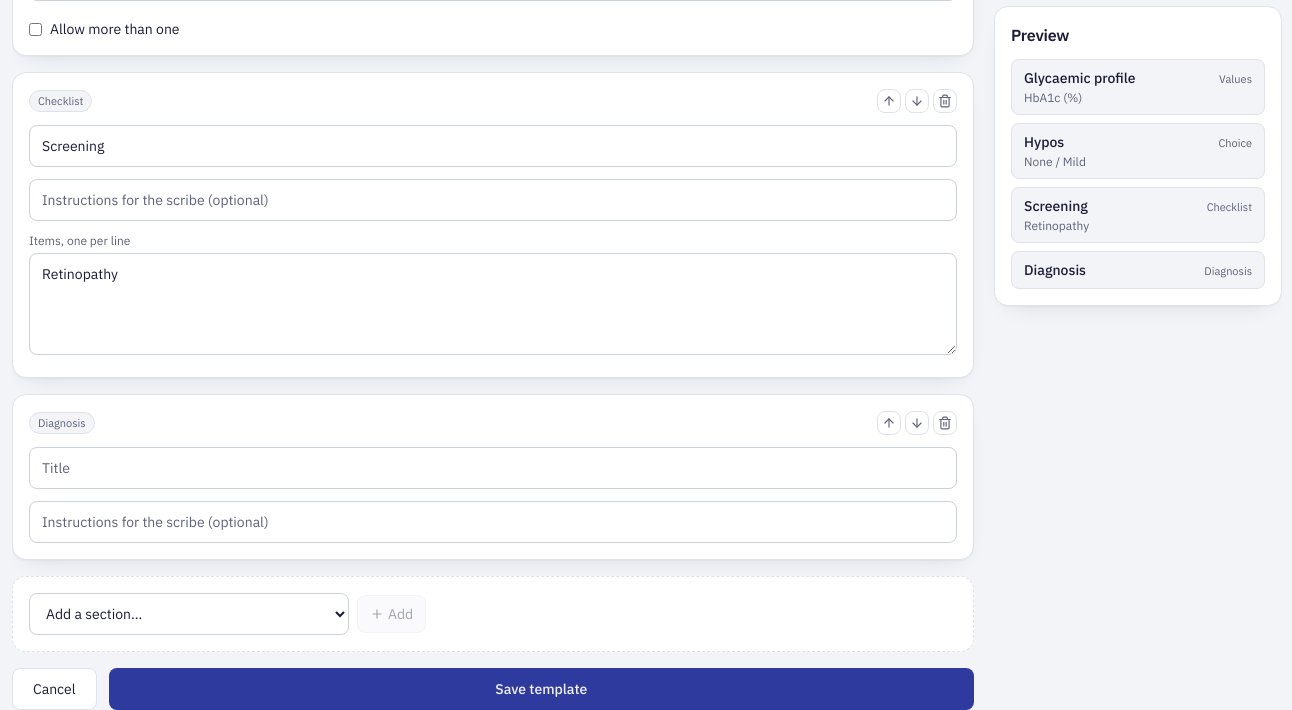
Test: template's own sections › editor adds a section and previews it
(page scrolled)
Step 1. Select "Score" in the dropdown showing "Add a section…" → {"x": 189, "y": 614}, box 29,593 -> 349,635
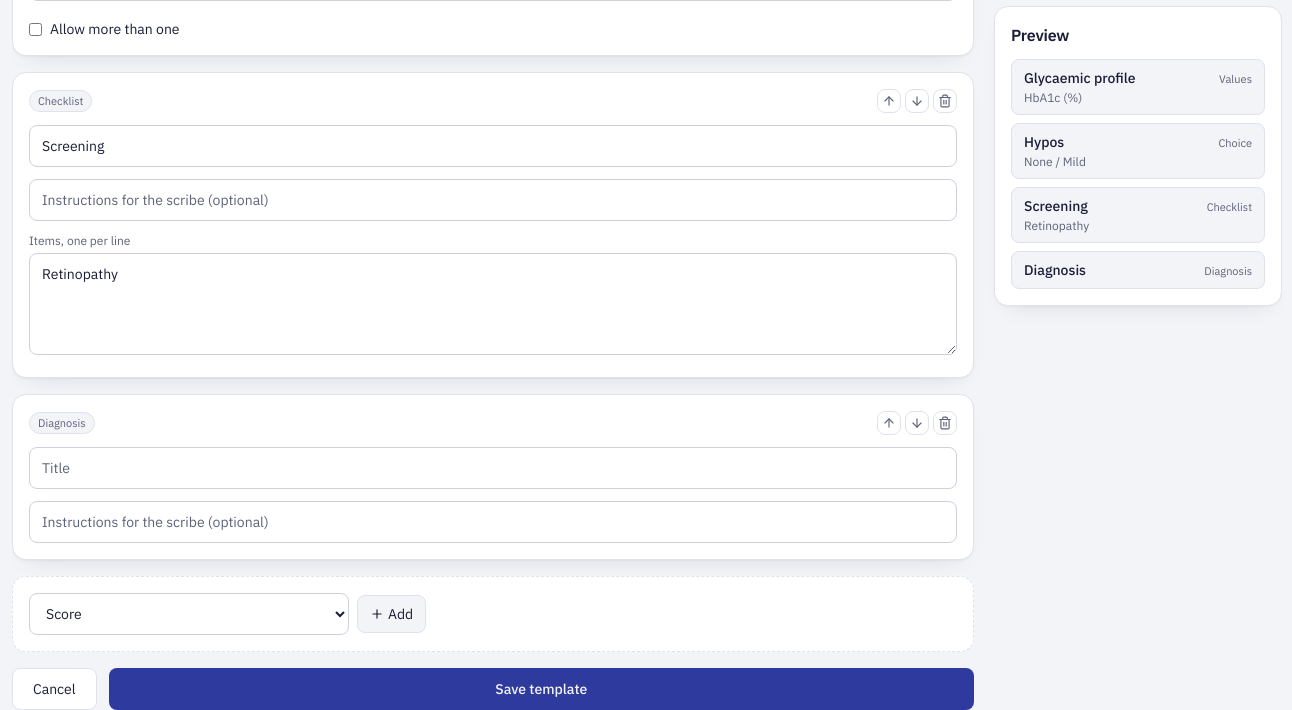
Step 2. Click the button "Add" → {"x": 392, "y": 614}, box 357,595 -> 426,633
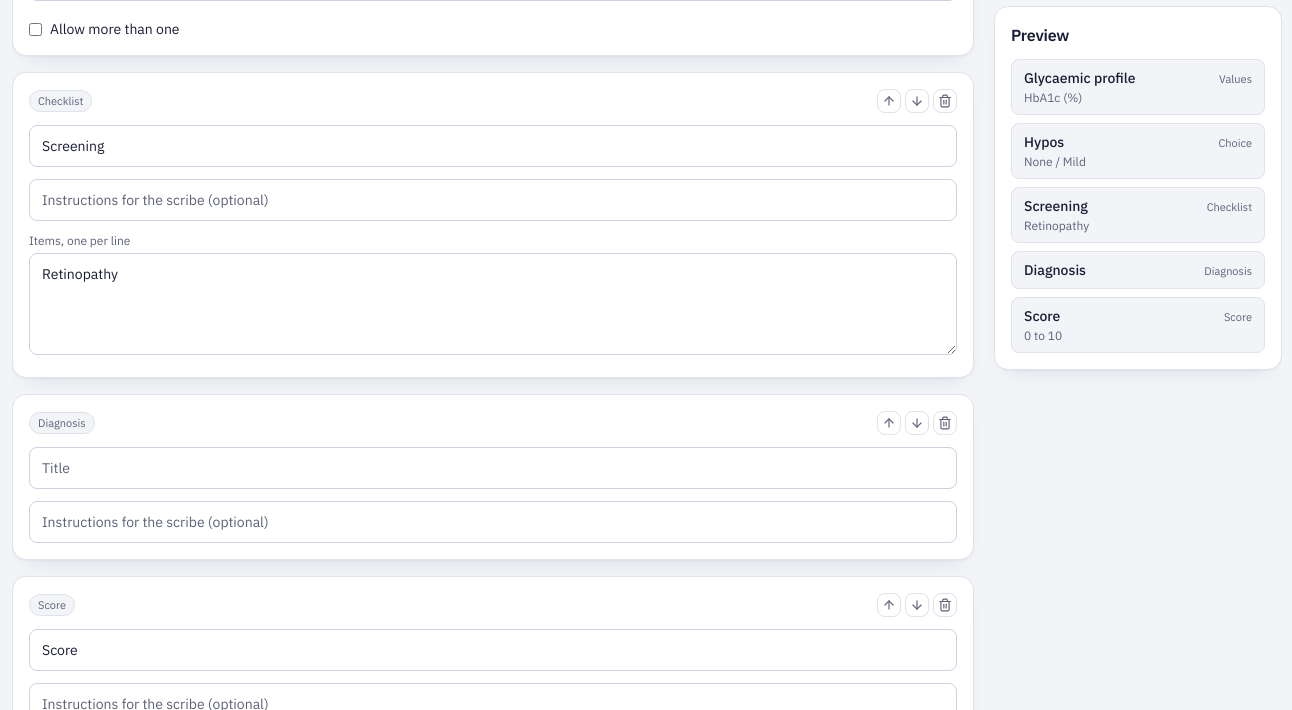
Expected: the 2nd field showing "Score" is shown, 29,629 -> 957,671
